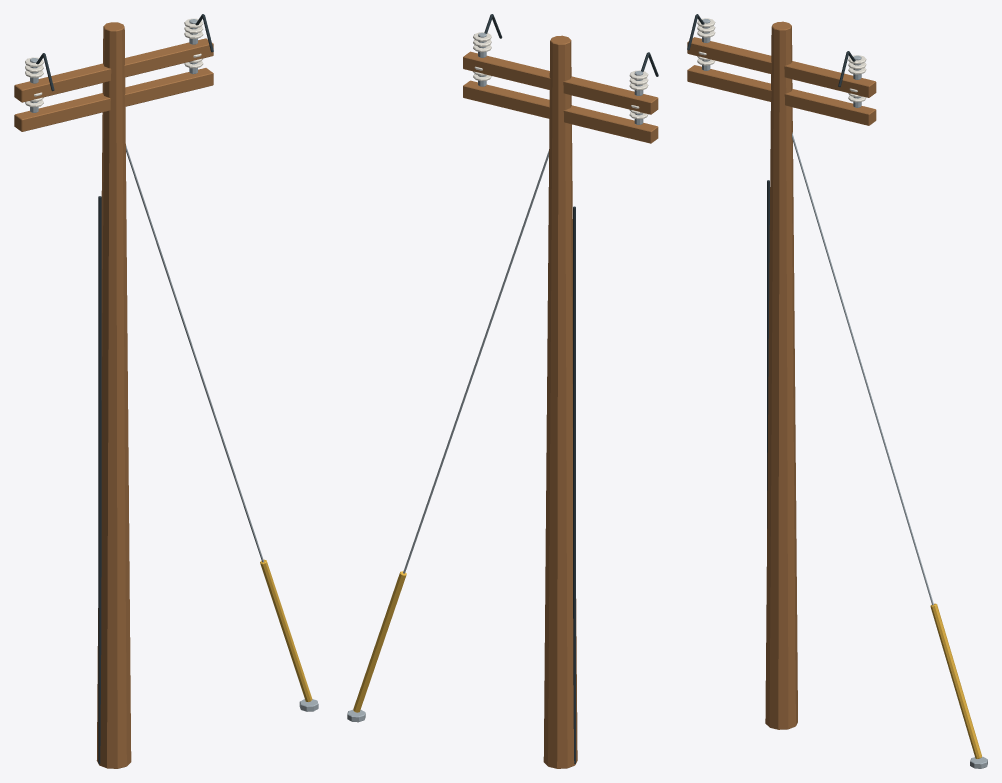
Rendered from b05_guyed_corner_power_pole.glb.
The picture shows the model from 3 angles, left to right: view 1: azimuth 30°, elevation 25°; view 2: azimuth 150°, elevation 25°; view 3: azimuth 330°, elevation 25°; orthographic projection. The views are drawn at different scales.
Visible parts, largest first — view 1: b05_guyed_corner_power_pole; view 2: b05_guyed_corner_power_pole; view 3: b05_guyed_corner_power_pole.
Part boxes in pixels (x1,y1,x2,y2): b05_guyed_corner_power_pole: [14, 14, 318, 768]; b05_guyed_corner_power_pole: [347, 14, 658, 768]; b05_guyed_corner_power_pole: [687, 14, 987, 768].
Size of the model in its own units: 3.27 by 7.5 by 0.5693.
